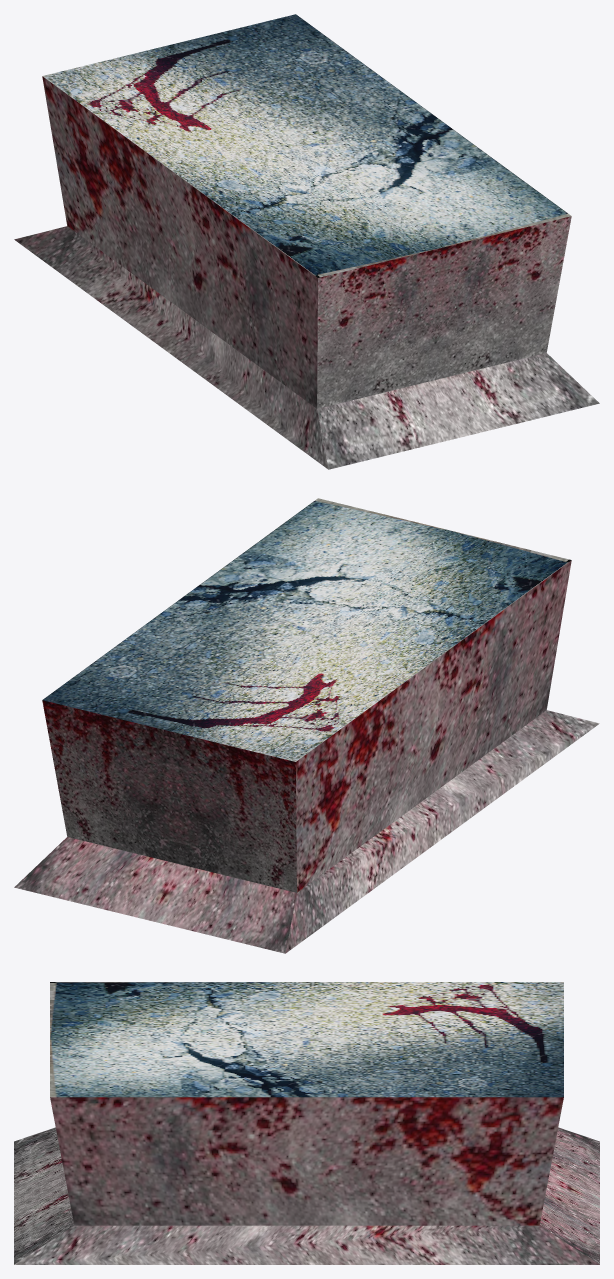
The model's file is sactabletest1.gltf.
3 views of the same model, one above another, from view 1: azimuth 30°, elevation 25°; view 2: azimuth 150°, elevation 25°; view 3: azimuth 270°, elevation 25° (orthographic). The views are drawn at different scales.
Visible parts, largest first — view 1: Cube; view 2: Cube; view 3: Cube.
Part boxes in pixels (left/top/right/bottom): Cube: left=14, top=14, right=599, bottom=469; Cube: left=14, top=498, right=599, bottom=953; Cube: left=14, top=982, right=599, bottom=1264.
Bounding box in the file's own units: 1.47 × 0.9053 × 2.94.
Materials: 1 (1 with a texture image).
